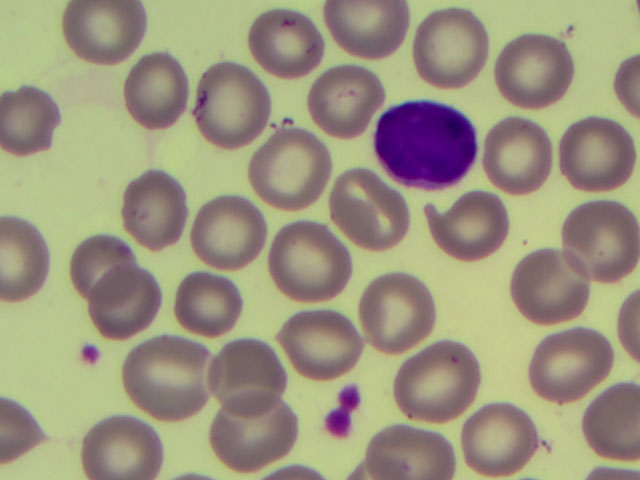Platelets: (320, 378, 365, 439), (79, 341, 109, 378)
RBC: (116, 48, 195, 127), (119, 170, 198, 248), (192, 67, 271, 145), (243, 5, 322, 83), (302, 56, 381, 134), (252, 128, 331, 206), (189, 192, 268, 270), (172, 260, 251, 338), (91, 270, 170, 348), (129, 338, 208, 416), (215, 328, 294, 406), (213, 395, 292, 473), (280, 301, 359, 379), (270, 219, 349, 297), (325, 170, 404, 248), (425, 182, 504, 260), (359, 271, 438, 349), (396, 339, 475, 417), (461, 398, 540, 476), (532, 327, 611, 405), (505, 245, 584, 323), (556, 207, 635, 285), (561, 114, 640, 192), (484, 115, 563, 193), (496, 35, 575, 113), (410, 12, 489, 90), (62, 1, 150, 69), (84, 411, 156, 480), (361, 425, 451, 480), (1, 211, 55, 302), (330, 1, 409, 61), (1, 85, 62, 160), (583, 377, 640, 457), (67, 231, 133, 295)
WBC: (373, 95, 478, 189)
